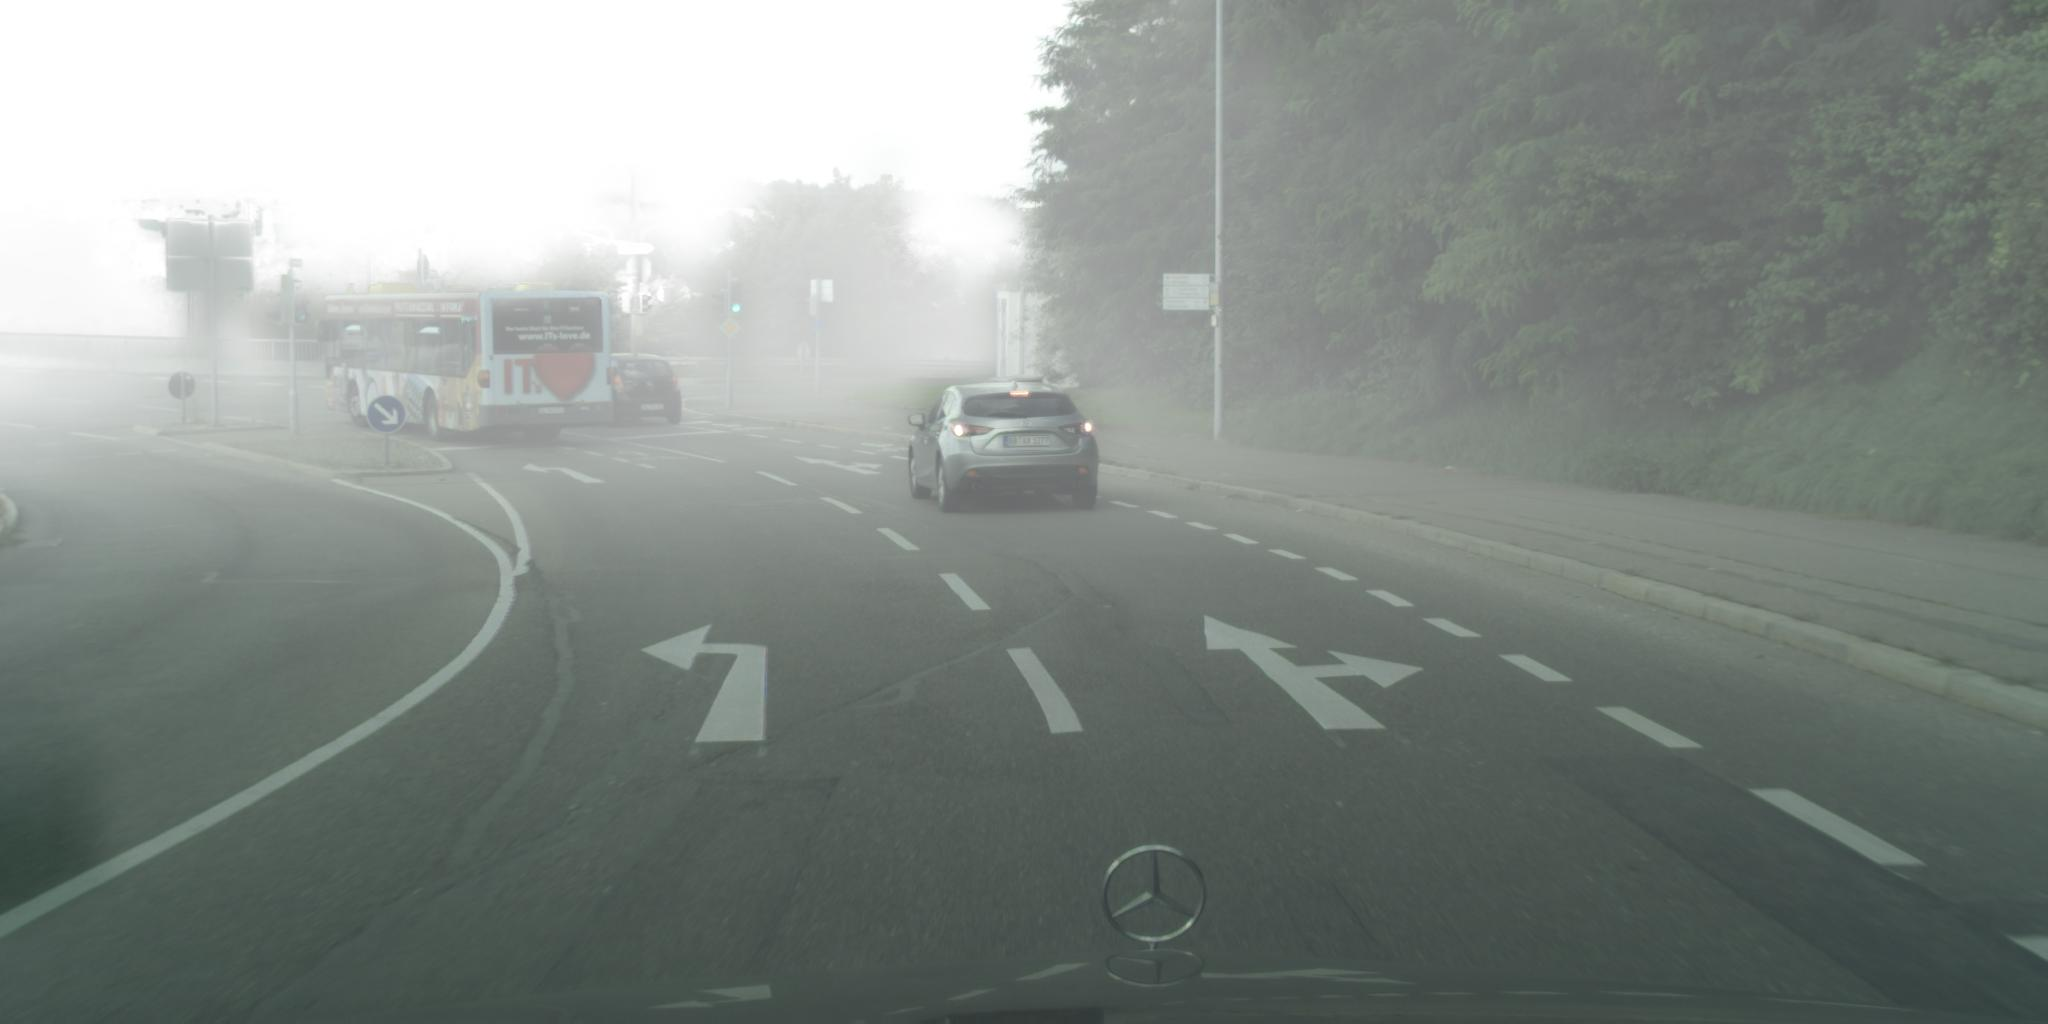bus: (317, 283, 614, 443)
car: (908, 381, 1098, 515), (607, 354, 684, 430)
